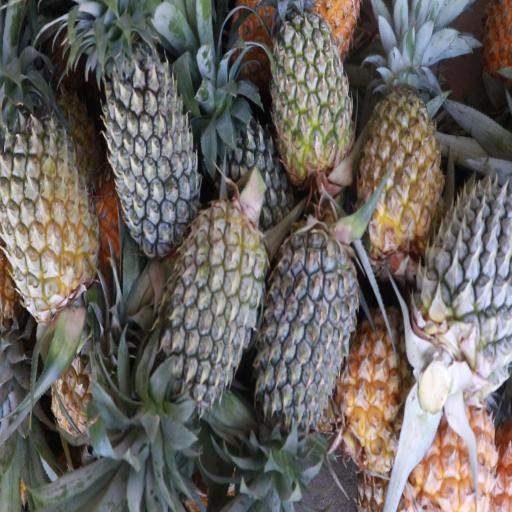------------------------------: (0, 98, 93, 317), (270, 6, 356, 183)
Pineapple - v8 v1: (338, 299, 428, 473), (363, 74, 443, 250), (414, 395, 496, 512)
